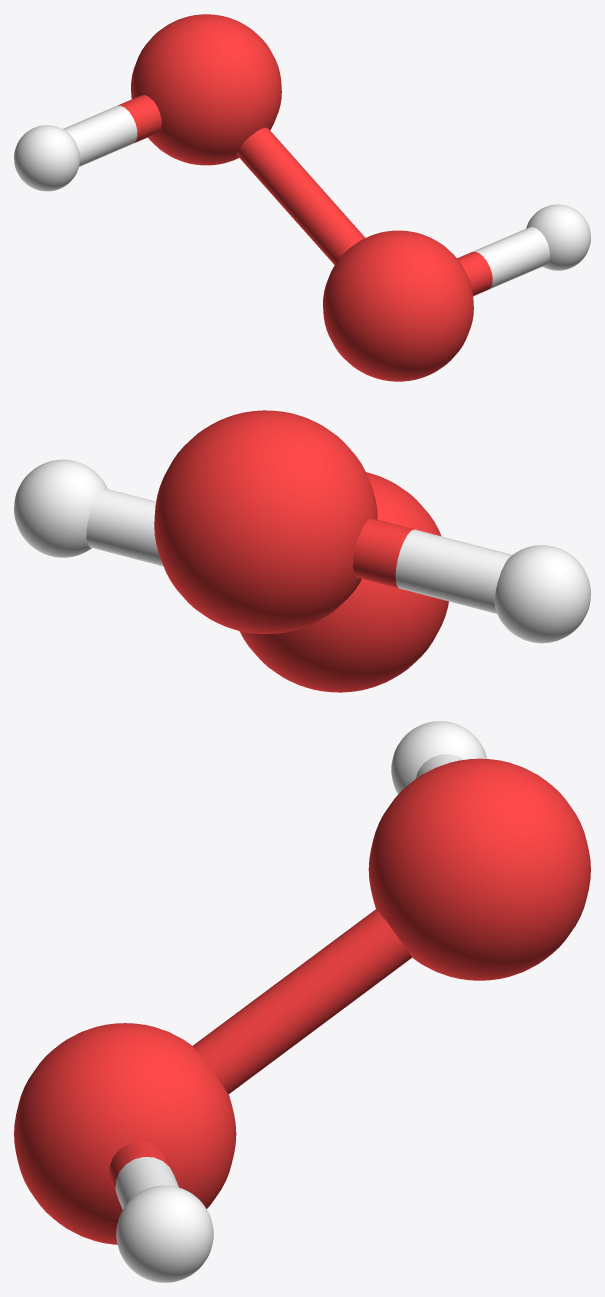
The picture shows the model from 3 angles, top to bottom: view 1: azimuth 30°, elevation 25°; view 2: azimuth 150°, elevation 25°; view 3: azimuth 270°, elevation 25°; orthographic projection. The views are drawn at different scales.
Parts seen in each view (by area): view 1: O2, O1, O1-O2 bond, O1-H1 bond, O2-H2 bond, H1, H2; view 2: O1, O2, O1-H1 bond, H1, H2, O2-H2 bond; view 3: O1, O2, O1-O2 bond, H2, H1, O2-H2 bond.
Part boxes in pixels (box(x1,y1,x2,y2)): O2: box(323, 230, 473, 381); O1: box(131, 14, 281, 165); O1-O2 bond: box(237, 127, 365, 264); O1-H1 bond: box(63, 95, 161, 166); O2-H2 bond: box(457, 227, 550, 296); H1: box(14, 125, 80, 191); H2: box(526, 204, 590, 270); O1: box(154, 410, 377, 633); O2: box(239, 472, 448, 692); O1-H1 bond: box(353, 518, 511, 613); H1: box(494, 545, 590, 643); H2: box(14, 459, 107, 557); O2-H2 bond: box(86, 488, 163, 566); O1: box(368, 758, 590, 980); O2: box(14, 1023, 236, 1244); O1-O2 bond: box(193, 909, 411, 1094); H2: box(116, 1185, 213, 1282); H1: box(391, 721, 486, 794); O2-H2 bond: box(109, 1141, 178, 1209).
Bounding box in the file's own units: 264 × 150 × 189.
